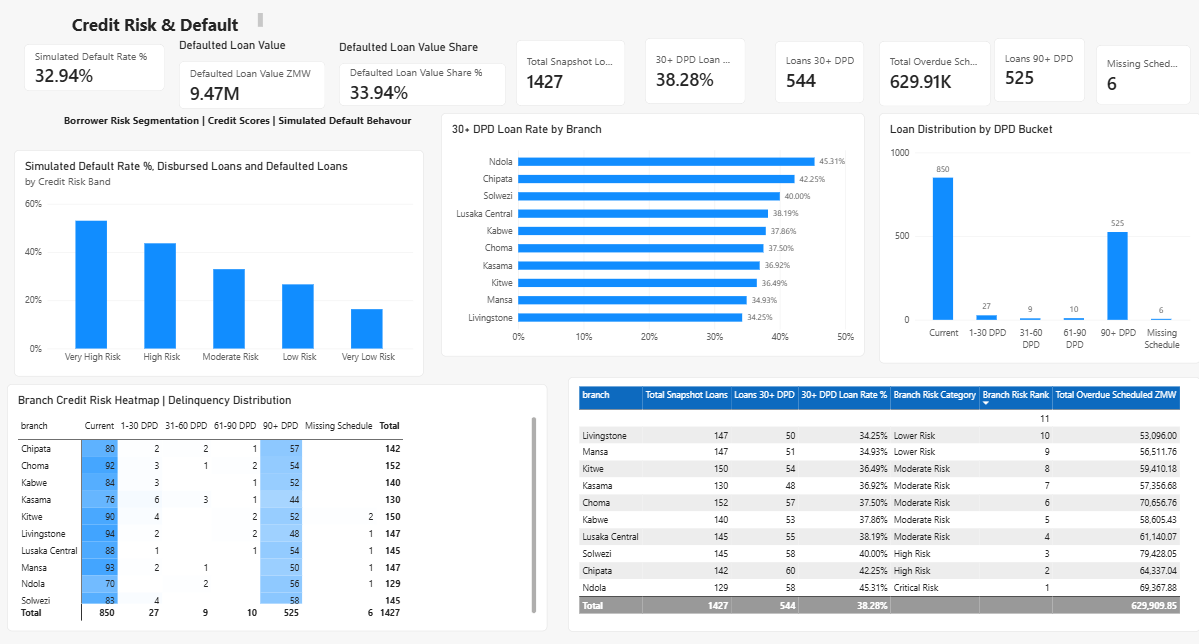

Layout of this report page (visuals, bound fields, positions):
{"tool":"powerbi","page":{"name":"Credit Risk & Default Analysis","canvas":[1920,1080],"ordinal":1},"visuals":[{"type":"textbox","box":[89.5,23.5,335.9,39.6],"z":0},{"type":"textbox","box":[89.5,183.3,591.1,58.7],"z":1000},{"type":"clusteredColumnChart","fields":{"Category":["DimCustomer.Credit Risk Band"],"Y":["DimCustomer.Simulated Default Rate %"]},"box":[28.3,242.4,652.9,361.4],"z":2000},{"type":"cardVisual","fields":{"Data":["DimCustomer.Simulated Default Rate %"]},"box":[44.6,72.9,224.6,75.8],"z":2001},{"type":"cardVisual","title":"Defaulted Loan Value","fields":{"Data":["DimCustomer.Defaulted Loan Value ZMW"]},"box":[291.5,64,233.5,113],"z":2002},{"type":"cardVisual","title":"Defaulted Loan Value Share","fields":{"Data":["DimCustomer.Defaulted Loan Value Share %"]},"box":[545.8,66.9,266.2,105.6],"z":2003},{"type":"cardVisual","fields":{"Data":["DimBranch.Total Snapshot Loans"]},"box":[828.4,66.9,174,105.6],"z":2004},{"type":"cardVisual","fields":{"Data":["DimBranch.Loans 30+ DPD"]},"box":[1241.8,68.4,142.8,99.6],"z":2005},{"type":"cardVisual","fields":{"Data":["DimBranch.Loans 90+ DPD"]},"box":[1589.8,64,145.7,102.6],"z":2006},{"type":"cardVisual","fields":{"Data":["DimBranch.30+ DPD Loan Rate %"]},"box":[1033.6,64,160.6,105.6],"z":2007},{"type":"cardVisual","fields":{"Data":["DimBranch.Missing Schedules"]},"box":[1751.9,74.4,151.7,95.2],"z":2008},{"type":"cardVisual","fields":{"Data":["DimBranch.Total Overdue Scheduled ZMW"]},"box":[1406.9,68.4,178.5,104.1],"z":2009},{"type":"clusteredColumnChart","title":"Loan Distribution by DPD Bucket","fields":{"Category":["DimDPDBucket.dpd_bucket"],"Y":["DimBranch.Total Snapshot Loans"]},"box":[1406.9,182.9,513.1,398.6],"z":2010},{"type":"clusteredBarChart","title":"30+ DPD Loan Rate by Branch","fields":{"Category":["FactDelinquencySnapshot.branch"],"Y":["DimBranch.30+ DPD Loan Rate %"]},"box":[709.4,182.9,675.2,388.2],"z":2011},{"type":"pivotTable","title":"Branch Credit Risk Heatmap | Delinquency Distribution","fields":{"Columns":["DimDPDBucket.dpd_bucket"],"Rows":["FactDelinquencySnapshot.branch"],"Values":["DimBranch.Total Snapshot Loans"]},"box":[17.8,615.7,861.1,394.1],"z":2012},{"type":"tableEx","fields":{"Values":["FactDelinquencySnapshot.branch","DimBranch.Total Snapshot Loans","DimBranch.Loans 30+ DPD","DimBranch.30+ DPD Loan Rate %","DimBranch.Branch Risk Category","DimBranch.Branch Risk Rank","DimBranch.Total Overdue Scheduled ZMW"]},"box":[911.7,603.8,1008.3,406],"z":2013}]}

Visuals, with their boxes on the page's 1920x1080 design canvas (x1, y1, x2, y2). These are canvas units, not pixel positions in the 1199x644 screenshot, which may show the page scaled, cropped or inside an application window:
textbox: bbox=[90, 24, 425, 63]
textbox: bbox=[90, 183, 681, 242]
clusteredColumnChart - DimCustomer.Credit Risk Band x DimCustomer.Simulated Default Rate %: bbox=[28, 242, 681, 604]
cardVisual - DimCustomer.Simulated Default Rate %: bbox=[45, 73, 269, 149]
"Defaulted Loan Value" cardVisual: bbox=[292, 64, 525, 177]
"Defaulted Loan Value Share" cardVisual: bbox=[546, 67, 812, 172]
cardVisual - DimBranch.Total Snapshot Loans: bbox=[828, 67, 1002, 172]
cardVisual - DimBranch.Loans 30+ DPD: bbox=[1242, 68, 1385, 168]
cardVisual - DimBranch.Loans 90+ DPD: bbox=[1590, 64, 1736, 167]
cardVisual - DimBranch.30+ DPD Loan Rate %: bbox=[1034, 64, 1194, 170]
cardVisual - DimBranch.Missing Schedules: bbox=[1752, 74, 1904, 170]
cardVisual - DimBranch.Total Overdue Scheduled ZMW: bbox=[1407, 68, 1585, 172]
"Loan Distribution by DPD Bucket" clusteredColumnChart: bbox=[1407, 183, 1920, 582]
"30+ DPD Loan Rate by Branch" clusteredBarChart: bbox=[709, 183, 1385, 571]
"Branch Credit Risk Heatmap | Delinquency Distribution" pivotTable: bbox=[18, 616, 879, 1010]
tableEx - FactDelinquencySnapshot.branch x DimBranch.Total Snapshot Loans: bbox=[912, 604, 1920, 1010]
